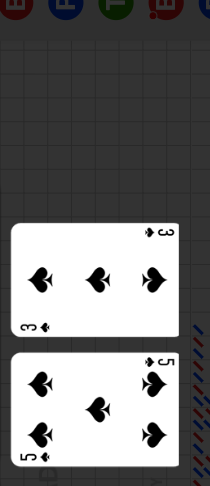3S: (142, 226, 175, 240)
5S: (19, 451, 53, 463)
